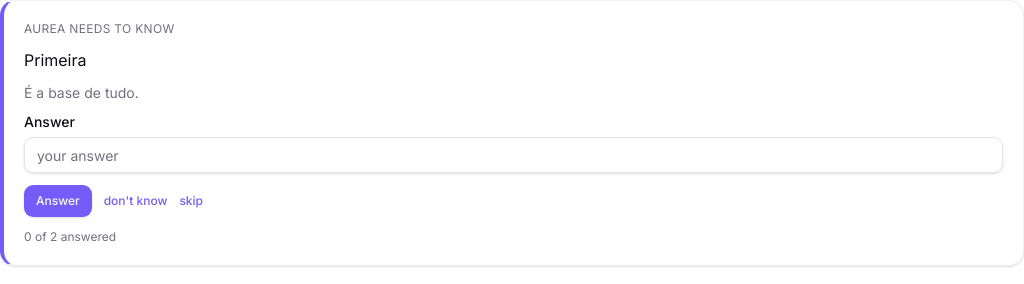
Scenario: AiFillPanel › sends a skipped question to the back of the queue
This screenshot has width=1024, height=284.
Click the button "skip" at (191, 201), box left=179, top=185, right=203, bottom=217
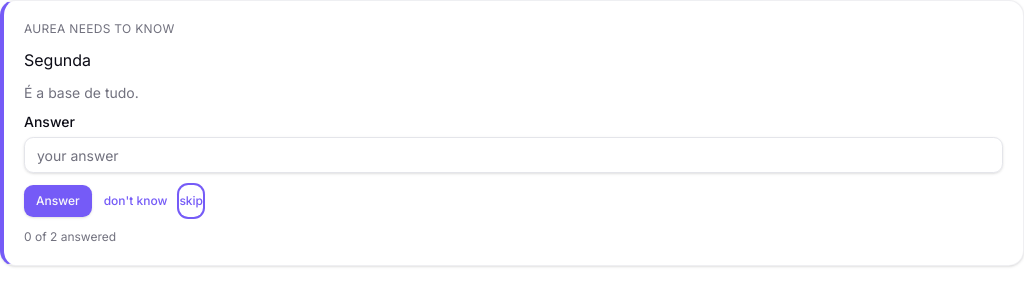
Check: the text "Segunda" is shown, box left=24, top=50, right=91, bottom=70
// "Skip" is "not now", unlike "I don't know", which is "never".
Click the button "skip" at (191, 201), box left=179, top=185, right=203, bottom=217
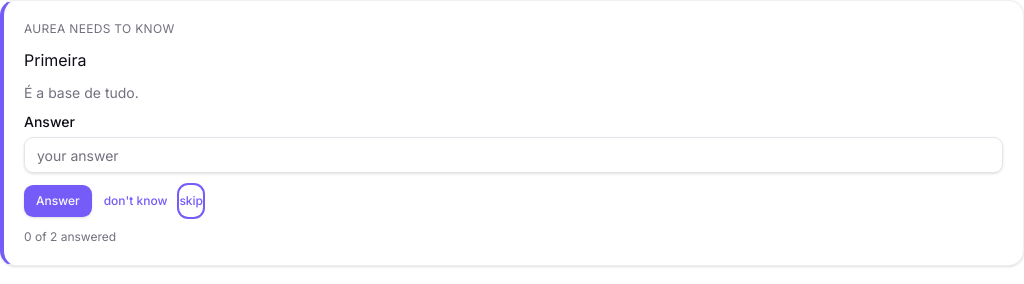
Check: the text "Primeira" is shown, box left=24, top=50, right=86, bottom=70
